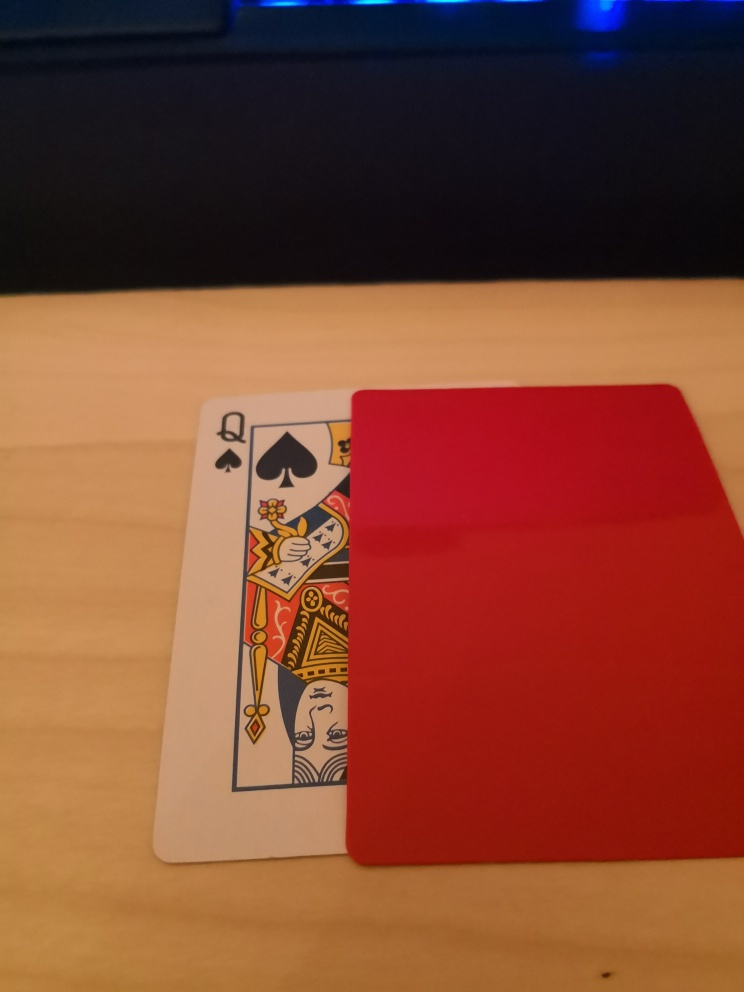queen: (153, 389, 353, 866)
